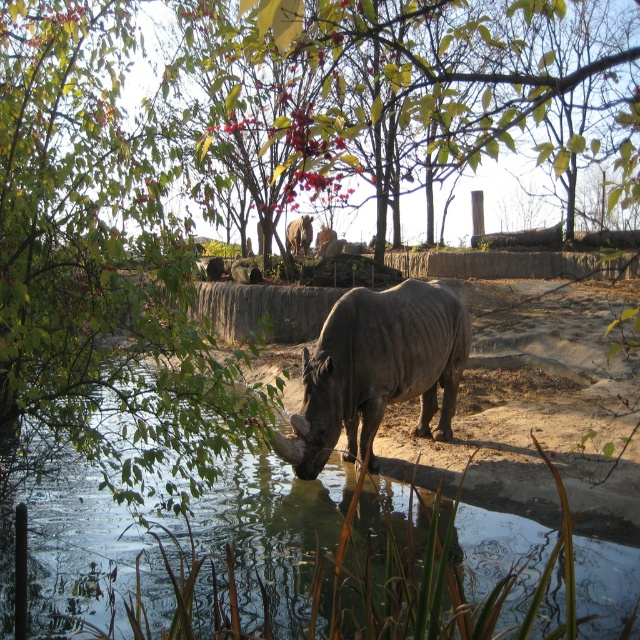Rhinoceros: (258, 275, 477, 485)
